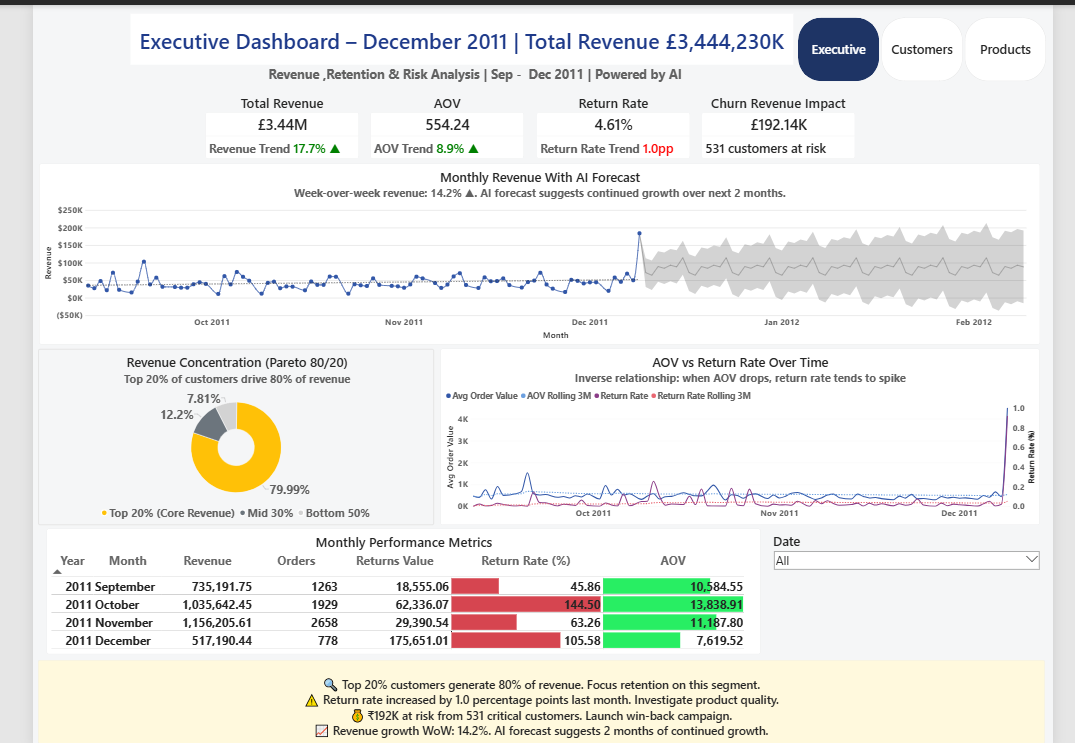

This screenshot's page, from the dashboard's own definition file:
{"tool":"powerbi","page":{"name":"Executive ","canvas":[3840,2800],"ordinal":0},"visuals":[{"type":"card","fields":{"Values":["AdvancedMeasures.Dynamic Page Title"]},"box":[368.6,32.7,2496,192],"z":0},{"type":"textbox","box":[872,226,1600,96],"z":1000},{"type":"cardVisual","title":"Total Revenue","fields":{"Data":["MeasuresTable.Total Revenue Pareto"]},"box":[648.5,332.2,577,244],"z":2000},{"type":"cardVisual","title":"AOV","fields":{"Data":["MeasuresTable.Avg Order Value"]},"box":[1272.5,332.2,577,244],"z":3000},{"type":"cardVisual","title":"Return Rate","fields":{"Data":["MeasuresTable.Return Rate"]},"box":[1896.5,332.2,577,244],"z":4000},{"type":"cardVisual","title":"Churn Revenue Impact","fields":{"Data":["MeasuresTable.Churn Revenue Impact"]},"box":[2520.5,332.2,577,244],"z":5000},{"type":"lineChart","title":"Monthly Revenue With AI Forecast","fields":{"Y":["MeasuresTable.Total Revenue Pareto"],"Category":["vw_executive_kpi.date"]},"box":[25,596.3,3769,680],"z":6000},{"type":"donutChart","title":"Revenue Concentration (Pareto 80/20)","fields":{"Category":["vw_clv_pareto.segment"],"Y":["Sum(vw_clv_pareto.lifetime_value)"]},"box":[19,1296,1492,665],"z":7000},{"type":"lineChart","title":"AOV vs Return  Rate Over Time","fields":{"Category":["vw_executive_kpi.date"],"Y":["MeasuresTable.Avg Order Value","MeasuresTable.AOV Rolling 3M"],"Y2":["MeasuresTable.Return Rate","MeasuresTable.Return Rate Rolling 3M"]},"box":[1536,1296,2256,663],"z":8000},{"type":"tableEx","title":"Monthly Performance Metrics","fields":{"Values":["vw_executive_kpi.date.Variation.Date Hierarchy.Year","vw_executive_kpi.date.Variation.Date Hierarchy.Month","Sum(vw_executive_kpi.revenue)","Sum(vw_executive_kpi.orders)","Sum(vw_executive_kpi.returns_value)","Sum(vw_executive_kpi.return_rate_pct)","Sum(vw_executive_kpi.aov)"]},"box":[50.8,1972.4,2688,472],"z":9000},{"type":"card","fields":{"Values":["MeasuresTable.Page1 Insights"]},"box":[19,2468.4,3792,314],"z":10000},{"type":"pageNavigator","box":[2880,48,936,240],"z":11000},{"type":"slicer","title":"Date ","fields":{"Values":["vw_executive_kpi.Month-Year"]},"box":[2786.8,1988.4,1008,192],"z":12000}]}

Visuals, with their boxes on the page's 3840x2800 design canvas (x1, y1, x2, y2). These are canvas units, not pixel positions in the 1075x743 screenshot, which may show the page scaled, cropped or inside an application window:
card - AdvancedMeasures.Dynamic Page Title: (left=369, top=33, right=2865, bottom=225)
textbox: (left=872, top=226, right=2472, bottom=322)
"Total Revenue" cardVisual: (left=648, top=332, right=1226, bottom=576)
"AOV" cardVisual: (left=1272, top=332, right=1850, bottom=576)
"Return Rate" cardVisual: (left=1896, top=332, right=2474, bottom=576)
"Churn Revenue Impact" cardVisual: (left=2520, top=332, right=3098, bottom=576)
"Monthly Revenue With AI Forecast" lineChart: (left=25, top=596, right=3794, bottom=1276)
"Revenue Concentration (Pareto 80/20)" donutChart: (left=19, top=1296, right=1511, bottom=1961)
"AOV vs Return  Rate Over Time" lineChart: (left=1536, top=1296, right=3792, bottom=1959)
"Monthly Performance Metrics" tableEx: (left=51, top=1972, right=2739, bottom=2444)
card - MeasuresTable.Page1 Insights: (left=19, top=2468, right=3811, bottom=2782)
pageNavigator: (left=2880, top=48, right=3816, bottom=288)
"Date " slicer: (left=2787, top=1988, right=3795, bottom=2180)
